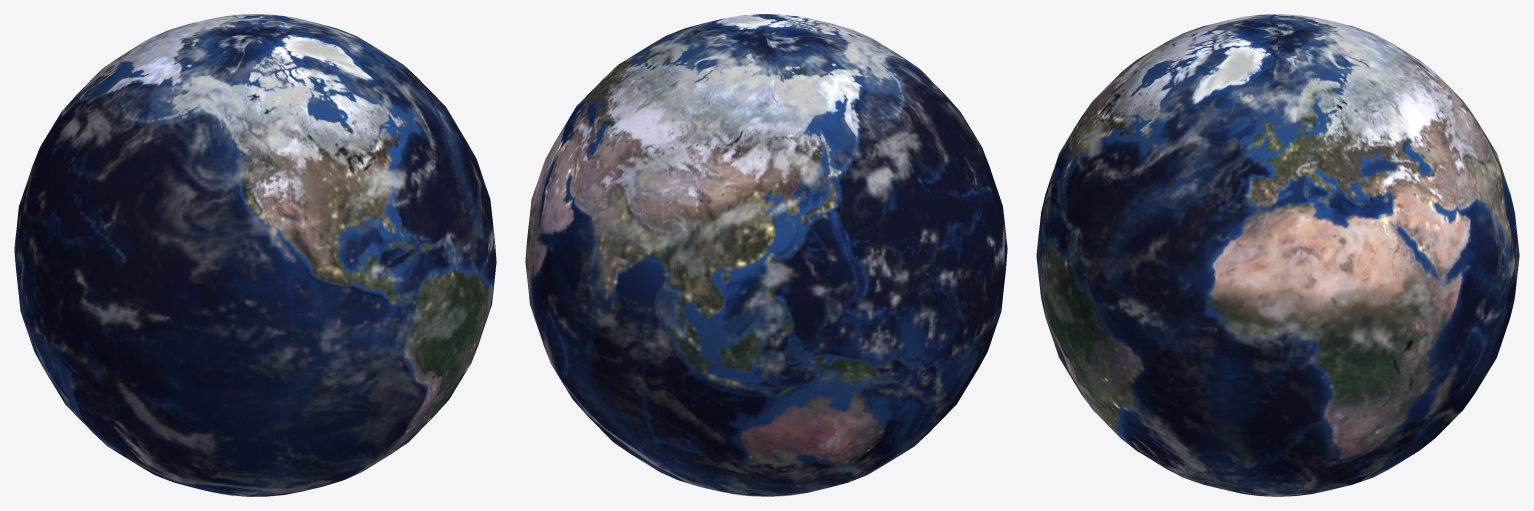
File: earth2.glb
3 views of the same model, side by side, from view 1: azimuth 30°, elevation 25°; view 2: azimuth 150°, elevation 25°; view 3: azimuth 270°, elevation 25° (orthographic).
Visible parts, largest first — view 1: Earth_land, Earth_clouds; view 2: Earth_land, Earth_clouds; view 3: Earth_land, Earth_clouds.
Part boxes in pixels (x1,y1,x2,y2): Earth_land: (14, 14, 496, 496); Earth_clouds: (14, 14, 495, 496); Earth_land: (525, 14, 1007, 496); Earth_clouds: (525, 14, 1006, 496); Earth_land: (1036, 14, 1519, 496); Earth_clouds: (1036, 14, 1519, 496).
Size of the model in its own units: 10.71 by 10.71 by 10.71.
3 materials, 2 textured.
